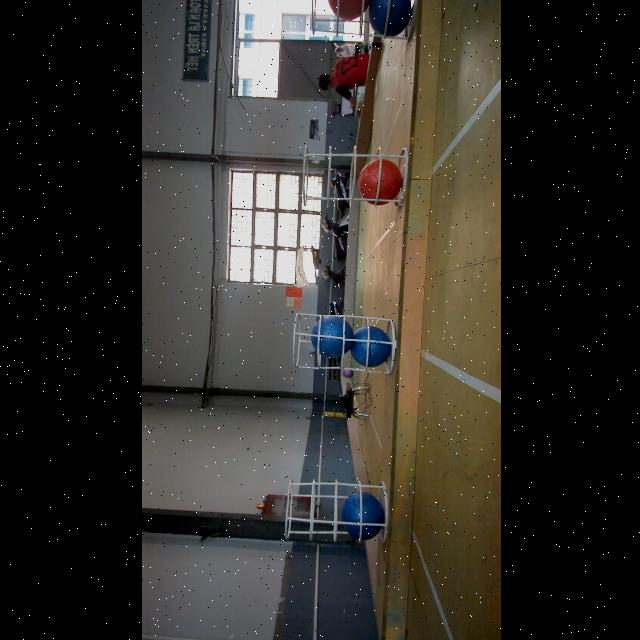B: (341, 492, 383, 540), (309, 316, 351, 358), (349, 326, 389, 368), (368, 0, 408, 38)
R: (357, 158, 401, 206)
